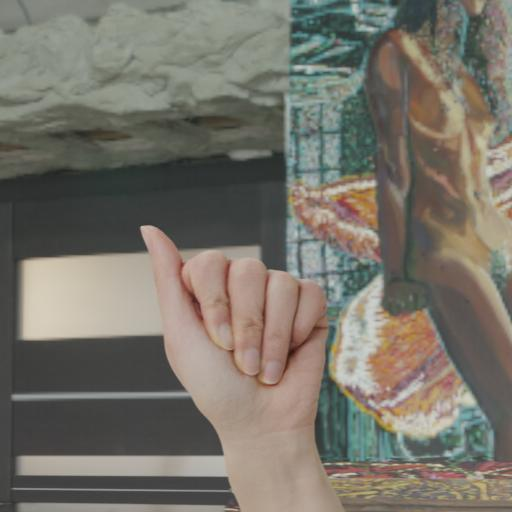A: (127, 202, 342, 466)
